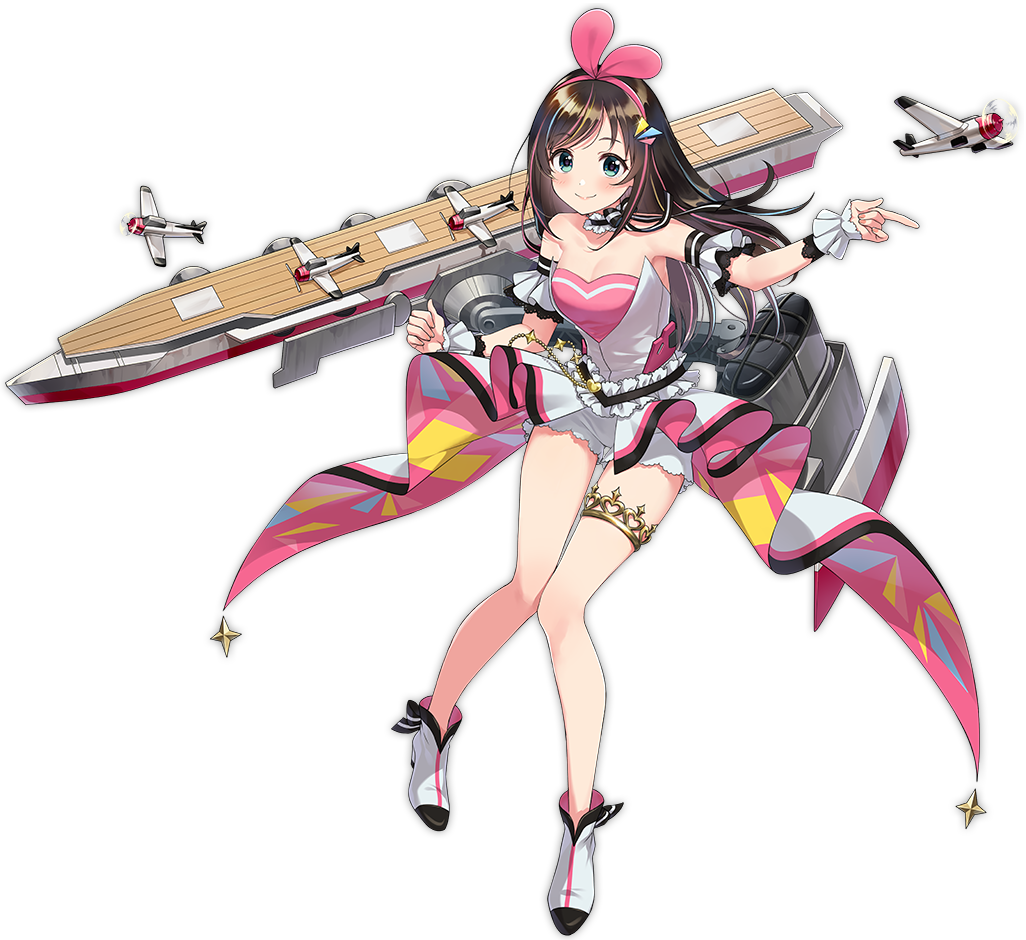person: (251, 61, 802, 744)
